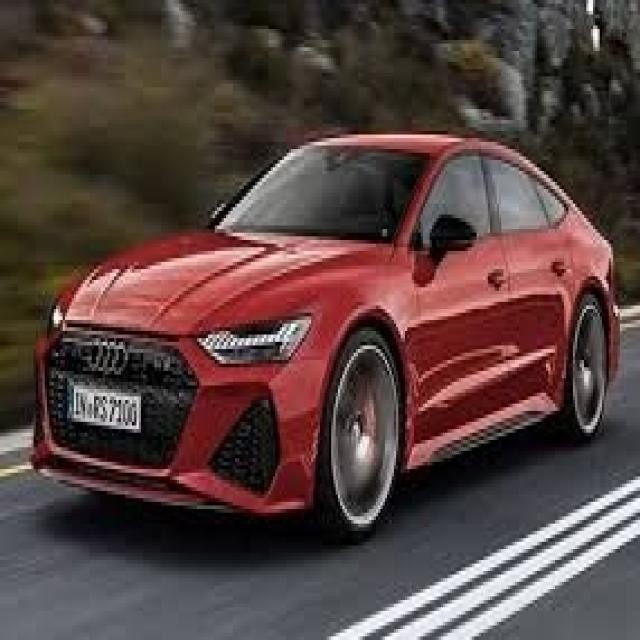maroon: (33, 128, 624, 510)
